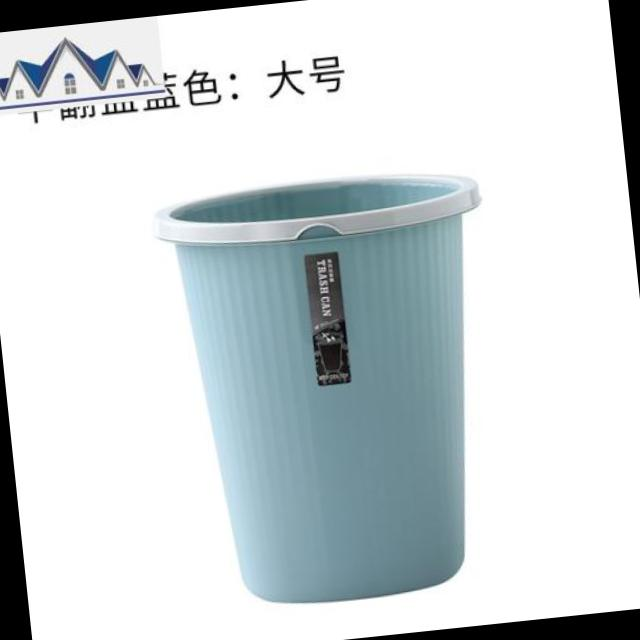dustbin: (142, 147, 523, 619)
